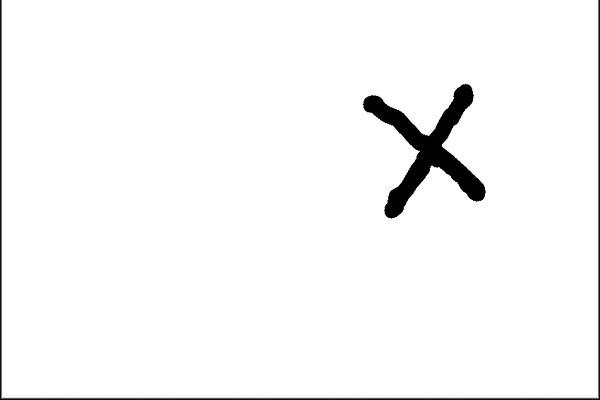X: (346, 65, 498, 265)
